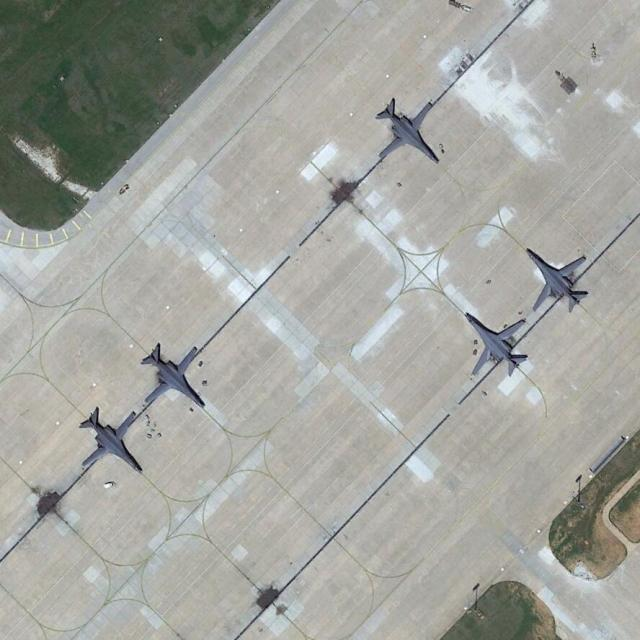fighter jet: (459, 307, 529, 374), (77, 405, 143, 474), (146, 340, 217, 403), (379, 98, 442, 166), (531, 248, 595, 312)
